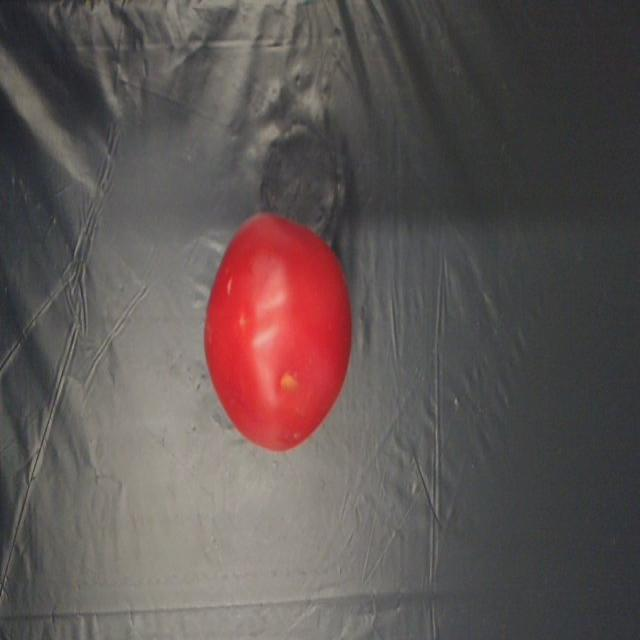kirmizi: (193, 200, 384, 476)
